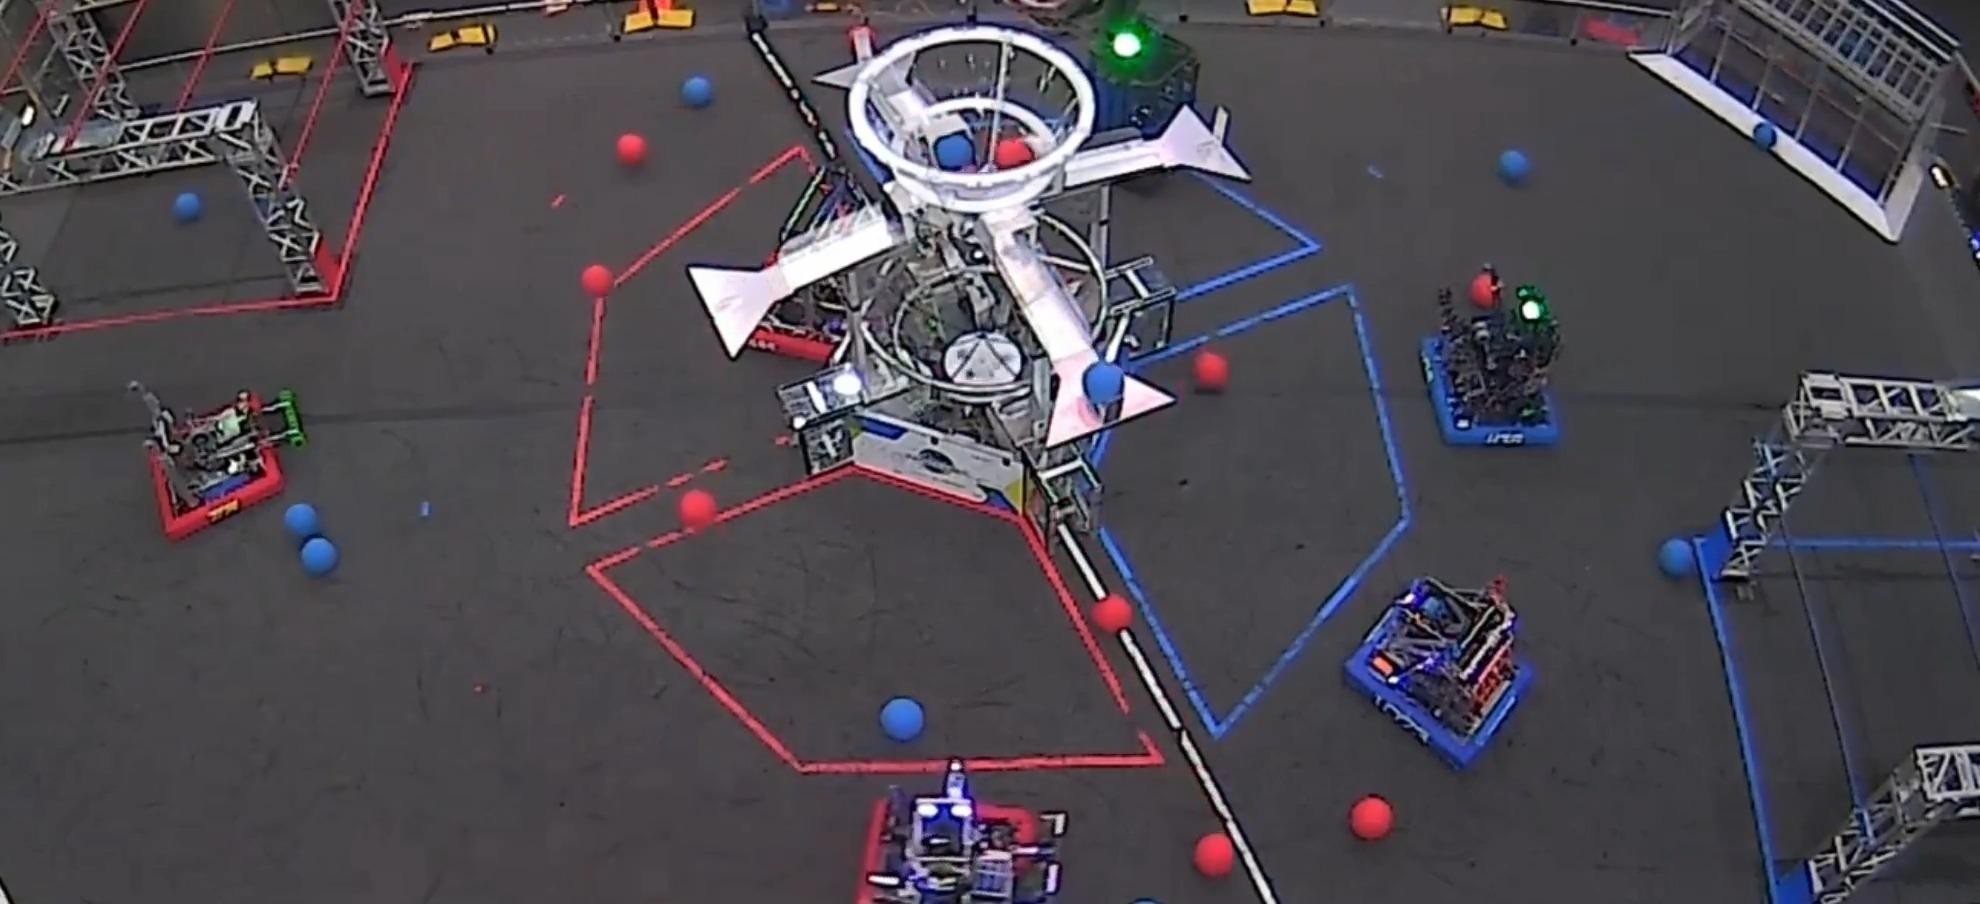Robots: (1345, 577, 1532, 768), (866, 760, 1065, 903), (129, 383, 306, 538), (1088, 14, 1200, 197), (1438, 265, 1560, 428), (778, 165, 861, 352)
